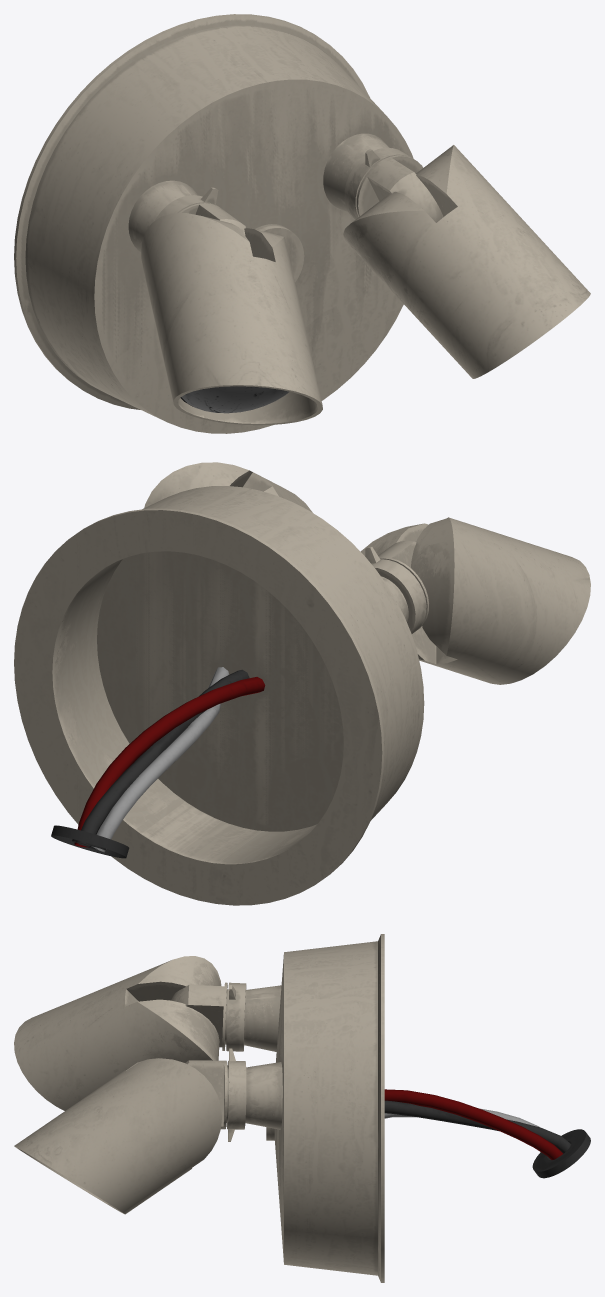
Rendered from FloodLight.fbx.
3 renders of one model, top to bottom at view 1: azimuth 30°, elevation 25°; view 2: azimuth 150°, elevation 25°; view 3: azimuth 270°, elevation 25°, orthographic. The views are drawn at different scales.
Visible parts, largest first — view 1: FloodLight; view 2: FloodLight; view 3: FloodLight.
Part boxes in pixels (x1,y1,x2,y2): FloodLight: (14,14,590,433); FloodLight: (14,462,590,905); FloodLight: (14,934,590,1282).
Bounding box in the file's own units: 0.167 × 0.1536 × 0.2537.
